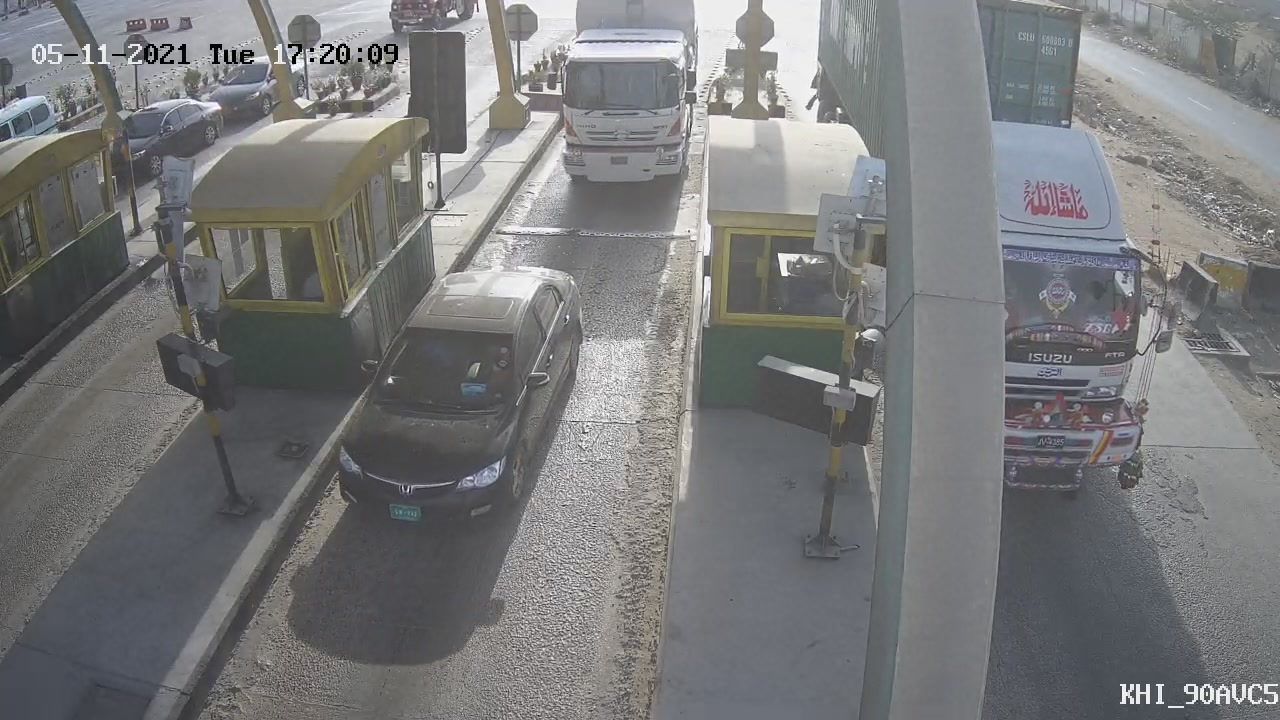F1: (290, 239, 611, 570)
